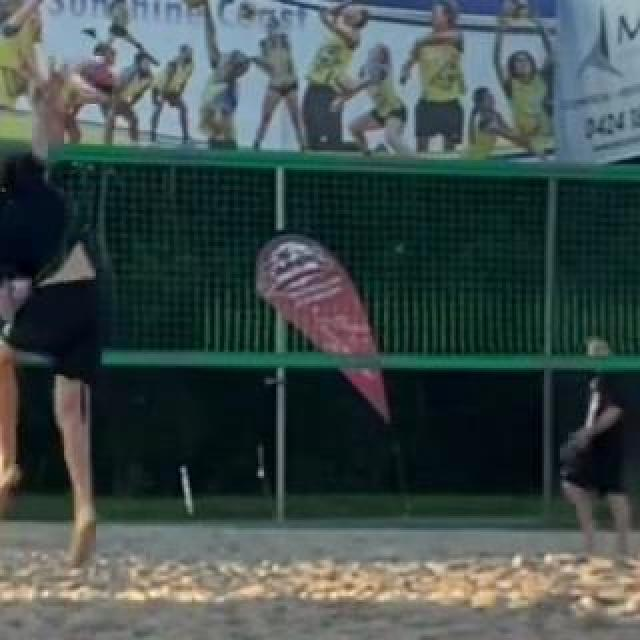volleyball: (27, 71, 81, 123)
